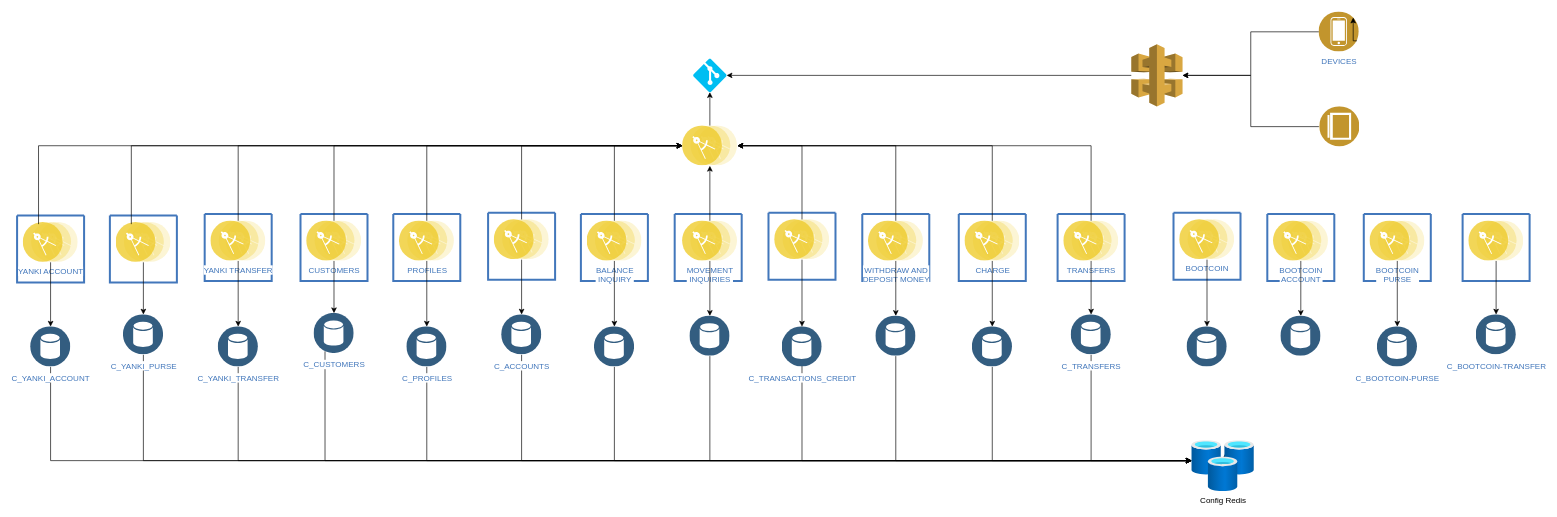
Image size: 1557x517. Some labels were removed from this diagram. Each missing label, with the centre of its shape:
"ACCOUNTS" belongs at pixel 521 239.
"BOOTCOIN TRANSFER" belongs at pixel 1495 240.
"C_BALANCE-INQUIRY" belongs at pixel 614 346.
"C_BOOTCOIN" belongs at pixel 1207 346.
"C_BOOTCOIN-ACCOUNT" belongs at pixel 1300 336.
"C_CHARGE" belongs at pixel 992 346.
"C_MOVEMENT-INQUIRIES" belongs at pixel 709 336.
"C_WITHDRAW-DEPOSIT" belongs at pixel 895 336.
"CREDIT TRANSACTIONS" belongs at pixel 801 239.
"Kafka" belongs at pixel 709 145.
"WEB" belongs at pixel 1339 126.
"YANKI PURSE" belongs at pixel 143 242.
